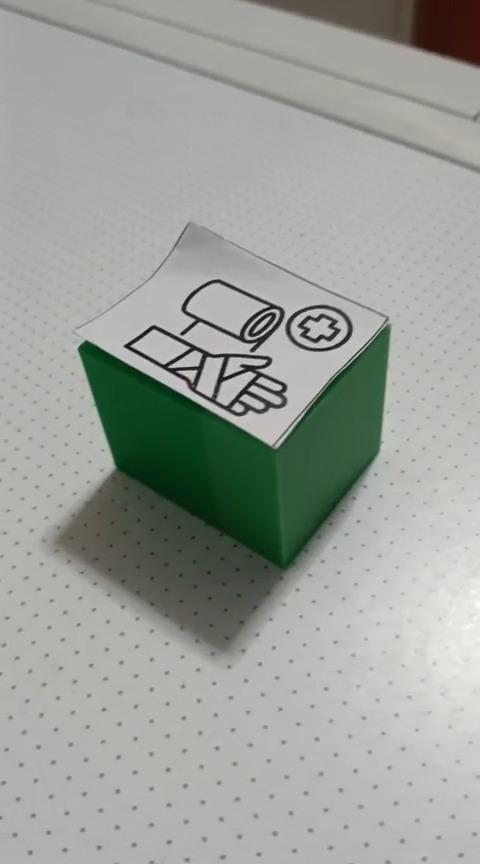Bandages: (72, 219, 391, 570)
